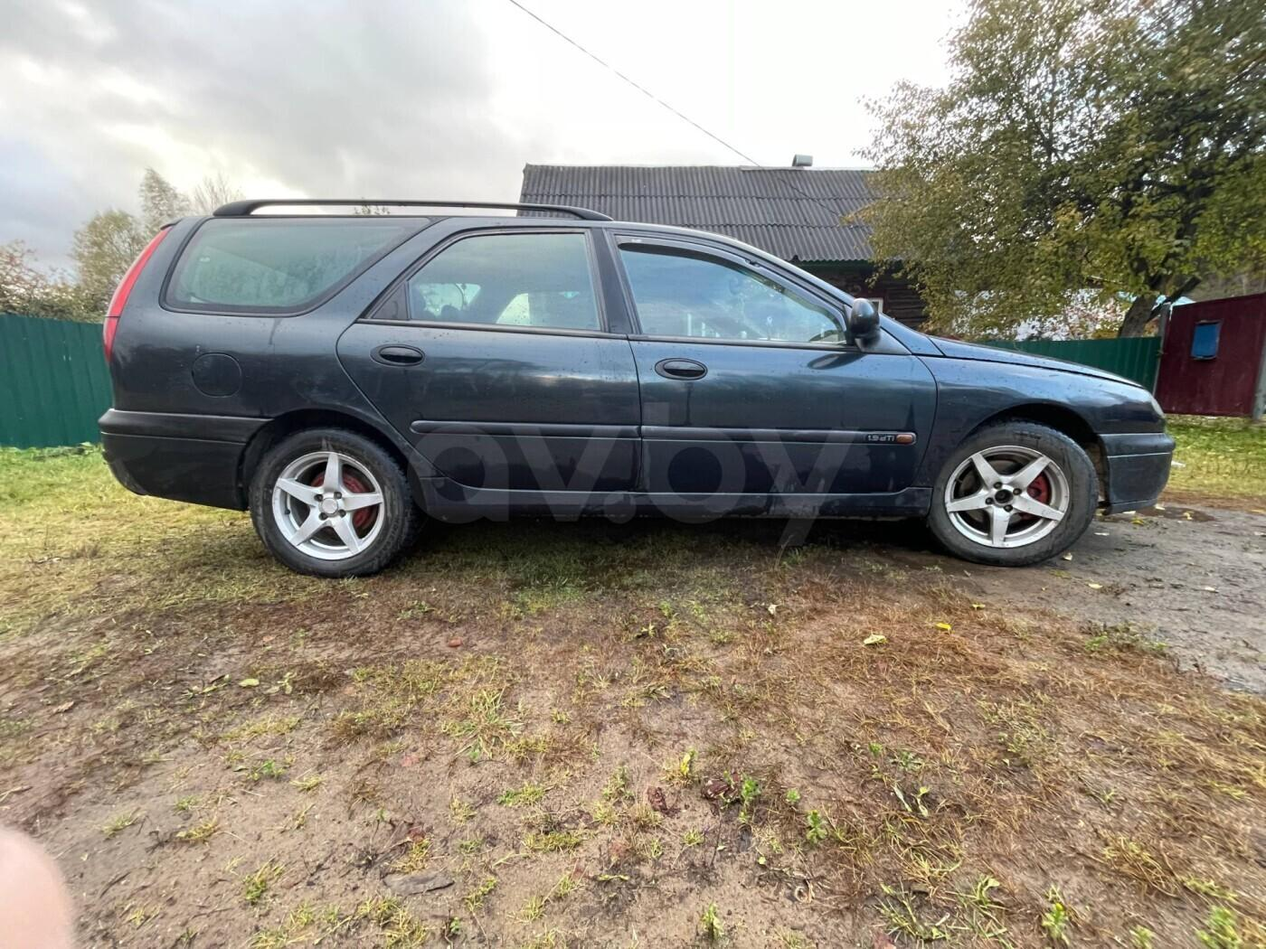Laguna_1998-2001: (98, 194, 1177, 577)
